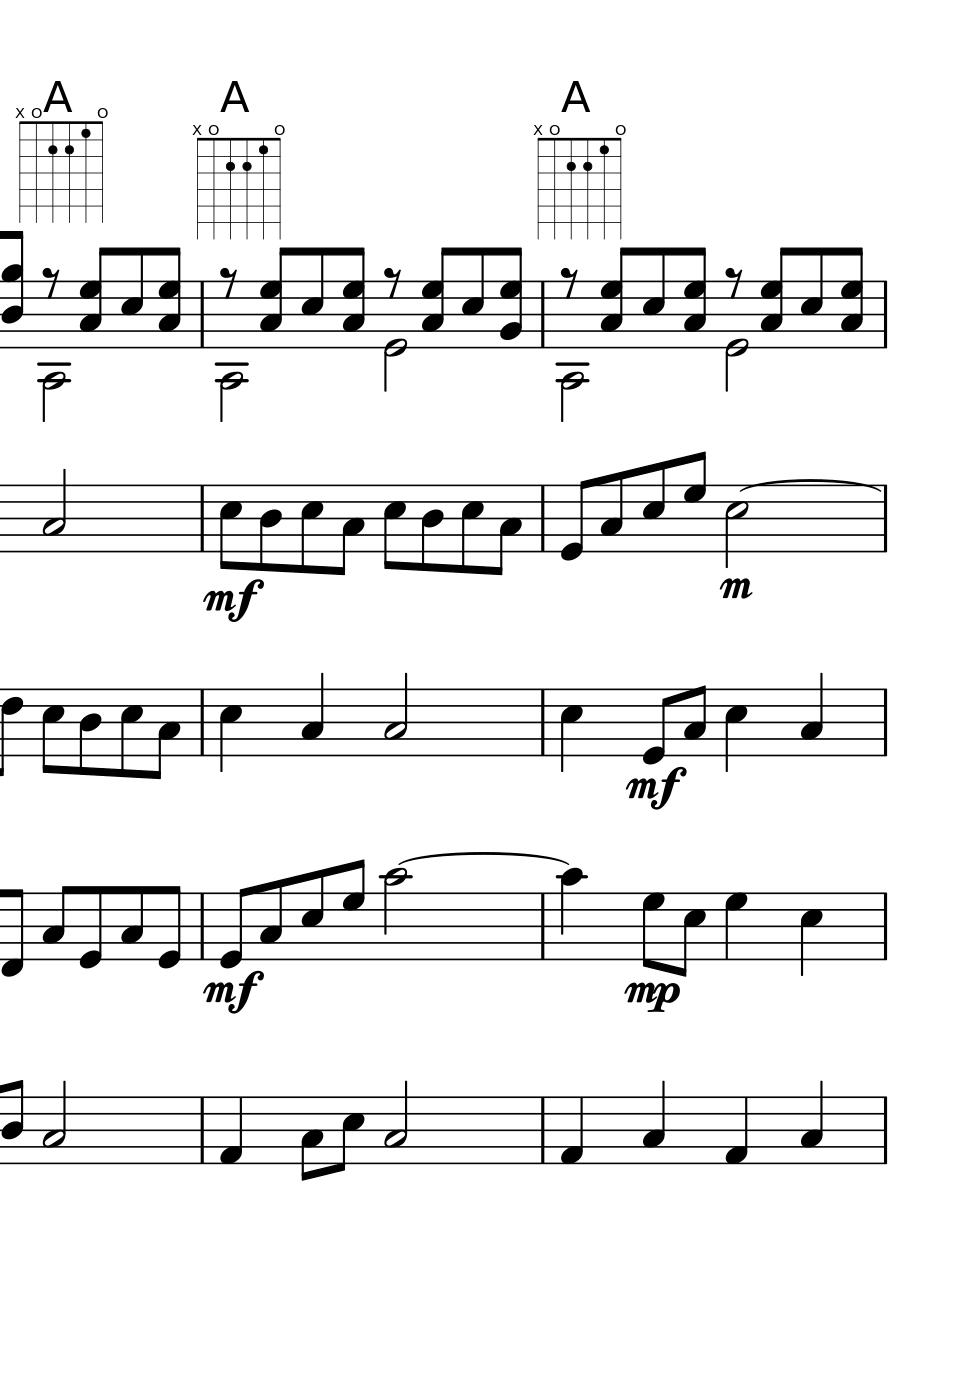2_-4: (38, 279, 67, 424), (557, 278, 585, 423), (216, 279, 245, 422)
2_0: (381, 279, 410, 393), (723, 280, 750, 394)
2_10: (380, 865, 410, 962)
2_3: (40, 467, 69, 556), (40, 1078, 69, 1168), (383, 1078, 409, 1166), (383, 671, 409, 758)
2_5: (723, 483, 749, 571)
4_1: (558, 1095, 585, 1166), (218, 1095, 245, 1166), (722, 1095, 749, 1166)
4_10: (557, 867, 587, 964)
4_3: (799, 1078, 825, 1166), (799, 671, 825, 758), (641, 1078, 667, 1165), (299, 671, 325, 757)
4_5: (558, 686, 584, 774), (217, 687, 244, 774), (798, 891, 823, 979), (722, 686, 748, 772)
4_7: (722, 891, 748, 961)
8_-1: (1, 885, 25, 979)
8_0: (559, 477, 592, 563), (218, 885, 250, 967), (155, 884, 183, 971), (642, 687, 672, 766), (77, 884, 104, 972)
8_3: (492, 483, 523, 577), (151, 687, 181, 782), (335, 483, 364, 578), (40, 884, 72, 962), (598, 470, 625, 555), (298, 1095, 323, 1183), (258, 878, 284, 962), (118, 884, 145, 962), (683, 683, 707, 757)
8_3_7: (80, 246, 113, 351), (259, 244, 292, 349), (420, 244, 453, 349), (596, 245, 629, 350), (758, 245, 791, 350), (158, 244, 182, 349), (342, 244, 366, 349), (682, 245, 706, 350), (840, 243, 864, 348), (498, 244, 522, 349)
8_4: (257, 483, 282, 574), (419, 483, 444, 573), (1, 1078, 25, 1166), (77, 687, 101, 778)
8_5: (638, 244, 668, 352), (117, 244, 145, 351), (298, 244, 327, 351), (460, 244, 488, 351), (798, 244, 825, 351), (675, 890, 707, 977), (640, 459, 667, 555), (117, 686, 143, 780), (297, 483, 323, 576), (299, 869, 325, 962), (335, 1095, 365, 1175), (458, 483, 483, 576), (39, 686, 65, 775), (216, 483, 242, 571), (381, 483, 406, 571)
8_6: (1, 687, 23, 776)
8_7: (682, 450, 706, 554), (340, 859, 365, 963), (640, 890, 665, 970)
Fretboard: (529, 120, 634, 247), (11, 104, 113, 227), (190, 120, 290, 244)
Rests8: (217, 264, 239, 299), (381, 264, 402, 299), (558, 264, 579, 298), (723, 264, 743, 299), (41, 265, 62, 299)
Single_barline: (532, 689, 554, 756), (192, 484, 212, 552), (192, 1096, 212, 1165), (533, 1096, 553, 1164), (875, 1096, 894, 1164), (193, 688, 212, 755), (533, 893, 553, 959), (875, 688, 893, 756), (875, 893, 893, 960), (535, 280, 552, 348), (196, 281, 213, 348), (194, 893, 211, 960), (877, 280, 893, 348), (536, 485, 552, 551)
Slur: (397, 850, 572, 869), (739, 477, 883, 494)
m: (717, 576, 753, 606)
mf: (199, 578, 263, 624), (626, 768, 686, 814), (202, 972, 264, 1016)
mp: (622, 980, 680, 1015)
